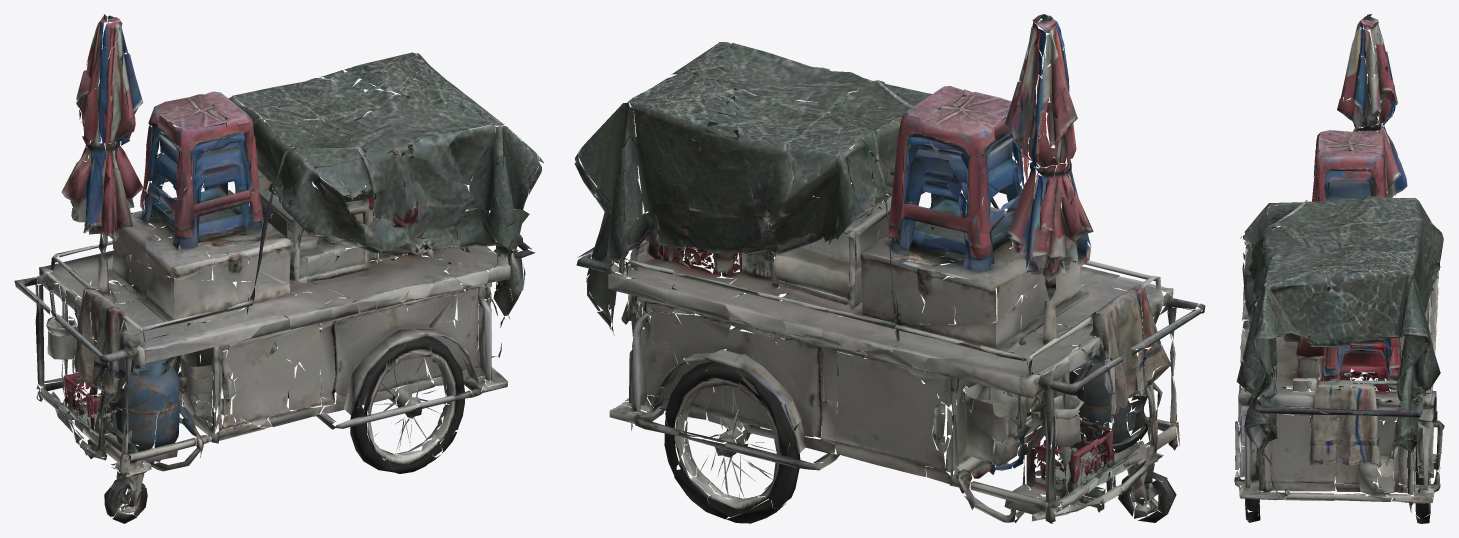
File: m_stall.glb
3 views of the same model, side by side, from view 1: azimuth 30°, elevation 25°; view 2: azimuth 150°, elevation 25°; view 3: azimuth 270°, elevation 25° (orthographic). The views are drawn at different scales.
Parts seen in each view (by area): view 1: tripo_node_e7ef068d-0c51-476f-96d4-57d758d4ce3d; view 2: tripo_node_e7ef068d-0c51-476f-96d4-57d758d4ce3d; view 3: tripo_node_e7ef068d-0c51-476f-96d4-57d758d4ce3d.
Part boxes in pixels (bbox=[...]): tripo_node_e7ef068d-0c51-476f-96d4-57d758d4ce3d: bbox=[14, 14, 543, 523]; tripo_node_e7ef068d-0c51-476f-96d4-57d758d4ce3d: bbox=[574, 14, 1205, 523]; tripo_node_e7ef068d-0c51-476f-96d4-57d758d4ce3d: bbox=[1234, 14, 1444, 523].
Size of the model in its own units: 1.69 by 1.69 by 0.7997.
Materials: 1 (1 with a texture image).
